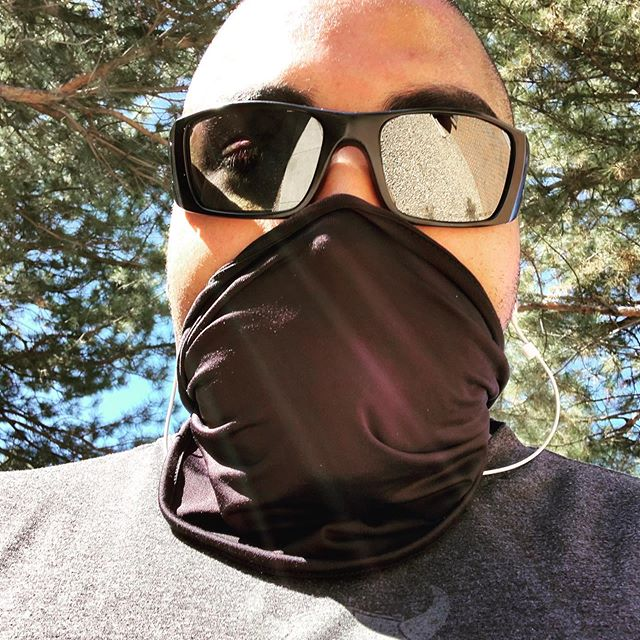homemade: (175, 212, 491, 563)
